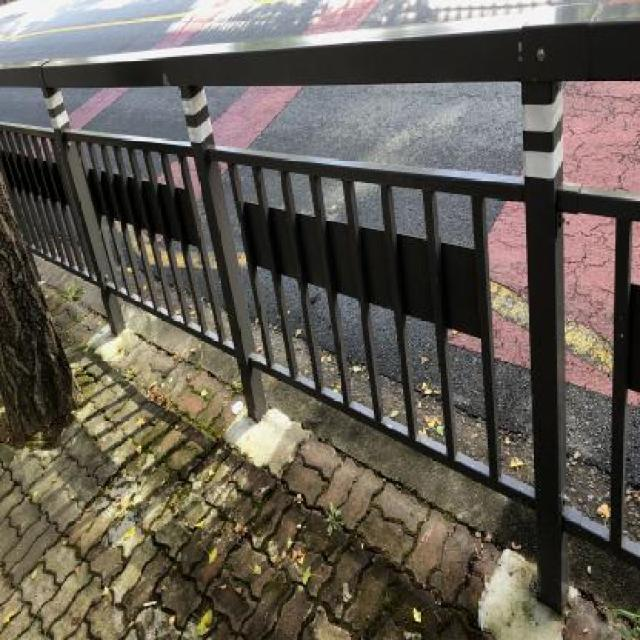fence: (0, 29, 640, 593)
